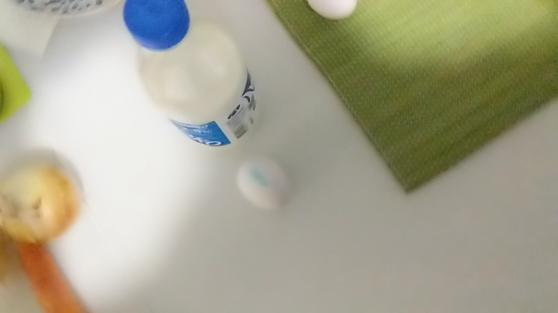carrot: (10, 255, 106, 313)
egg: (233, 154, 308, 215)
milk: (116, 2, 284, 151)
onion: (1, 155, 84, 250)
